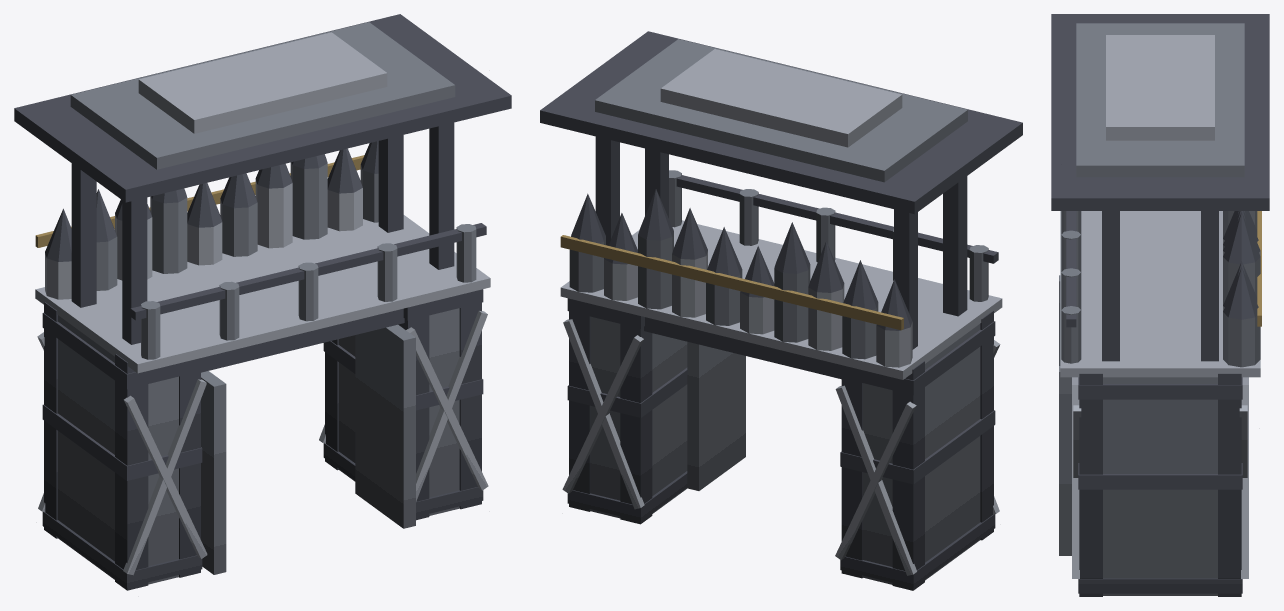
Rendered from perimeter_gate_metal_open.glb.
3 views of the same model, side by side, from view 1: azimuth 30°, elevation 25°; view 2: azimuth 150°, elevation 25°; view 3: azimuth 270°, elevation 25° (orthographic). The views are drawn at different scales.
Size of the model in its own units: 4.4 by 4.8 by 2.2.
1 material, 1 textured.
